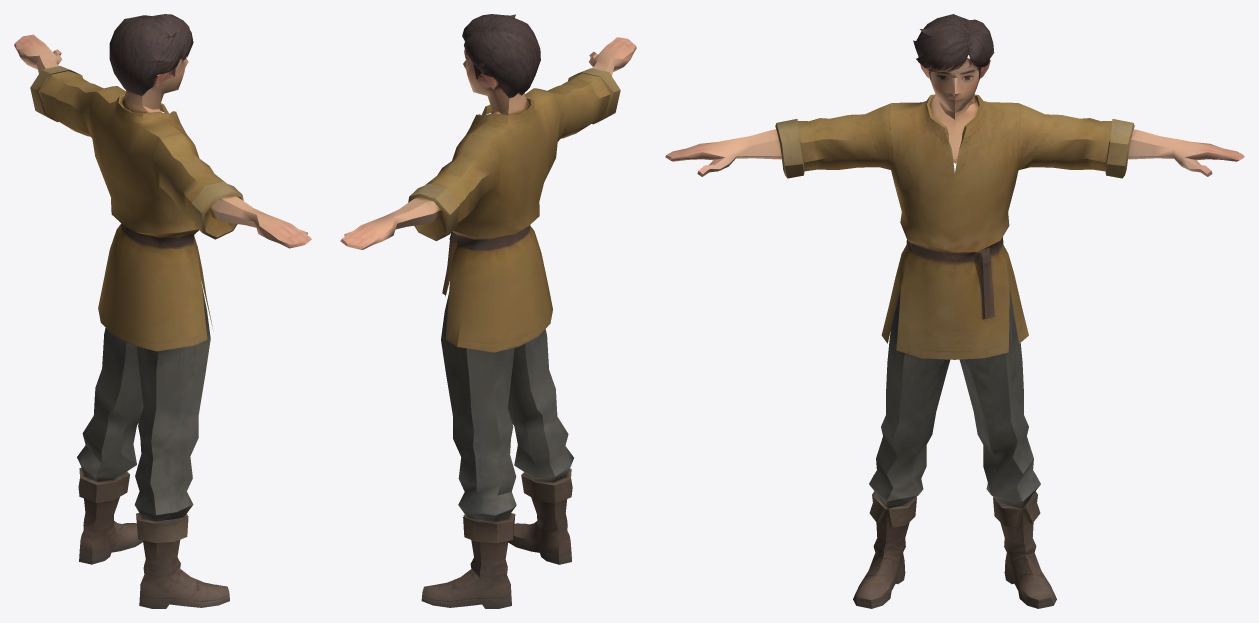
Rendered from human_male.glb.
3 renders of one model, left to right at view 1: azimuth 30°, elevation 25°; view 2: azimuth 150°, elevation 25°; view 3: azimuth 270°, elevation 25°, orthographic. The views are drawn at different scales.
Parts seen in each view (by area): view 1: tripo_node_cf85d46e-a897-4072-ae07-aaa7efe41591; view 2: tripo_node_cf85d46e-a897-4072-ae07-aaa7efe41591; view 3: tripo_node_cf85d46e-a897-4072-ae07-aaa7efe41591.
Part boxes in pixels (x1,y1,x2,y2): tripo_node_cf85d46e-a897-4072-ae07-aaa7efe41591: (14,14,311,608); tripo_node_cf85d46e-a897-4072-ae07-aaa7efe41591: (340,14,636,608); tripo_node_cf85d46e-a897-4072-ae07-aaa7efe41591: (665,14,1244,608).
Bounding box in the file's own units: 0.1655 × 1 × 0.9189.
Materials: 1 (1 with a texture image).
